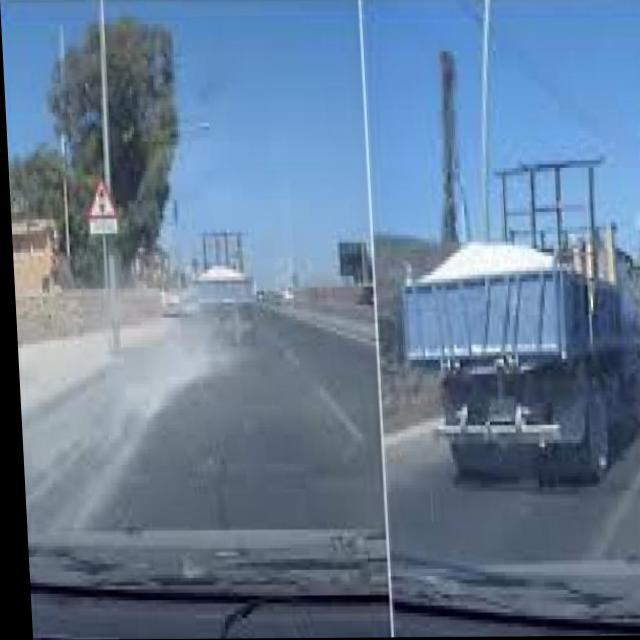uncovered: (398, 232, 622, 486), (172, 258, 257, 337)
